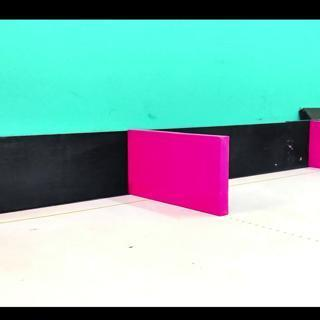xparking: (134, 142, 228, 210), (313, 124, 317, 170)
